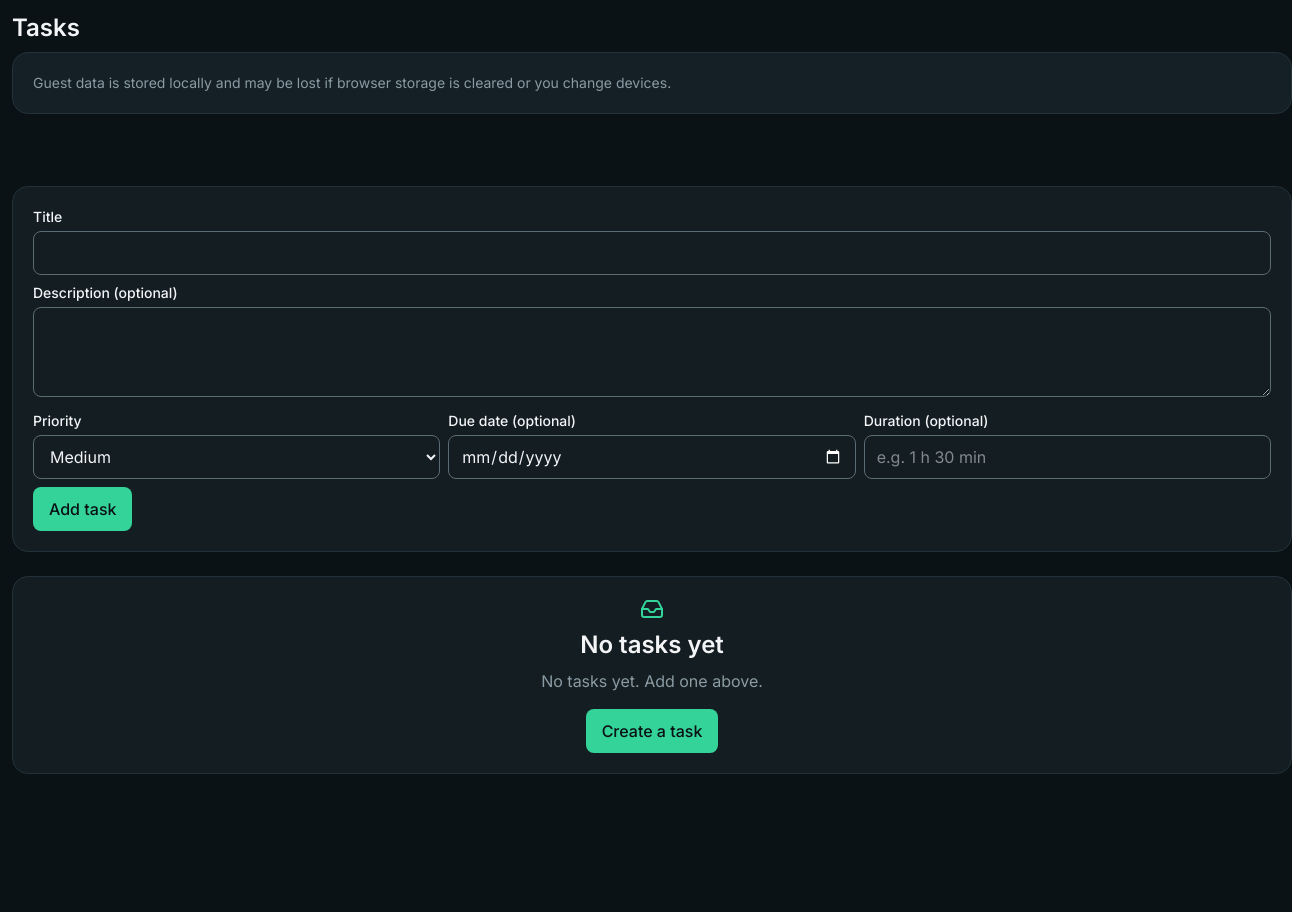
Test case: create form accessibility › renders field errors next to the correct inputs
The image size is (1292, 912).
Type "Valid title" into the field labelled "Title" at (652, 253), box [33,231,1271,275]
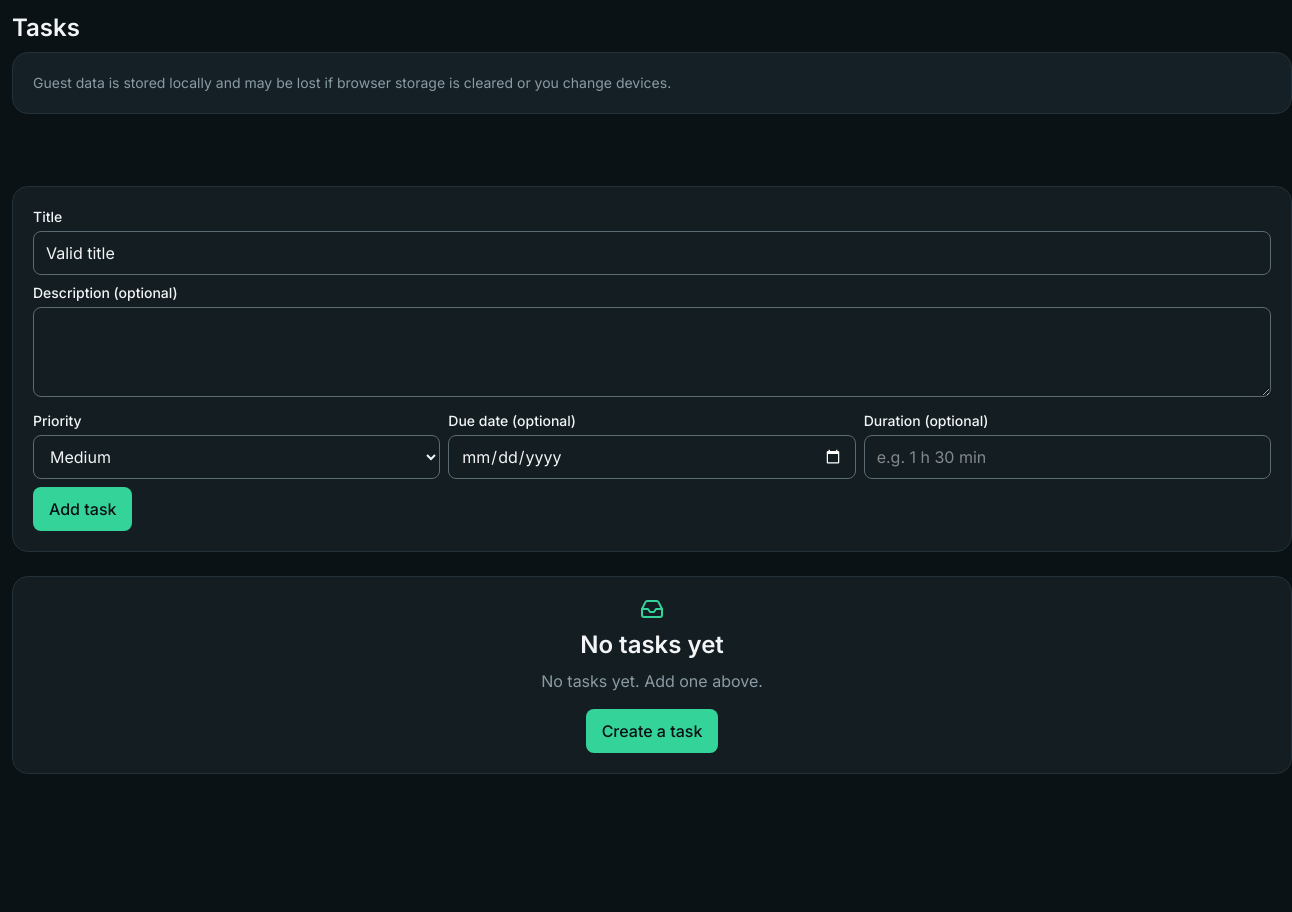
Type "1.5h" into the field labelled "Duration (optional)" at (1067, 457), box [864,435,1271,479]
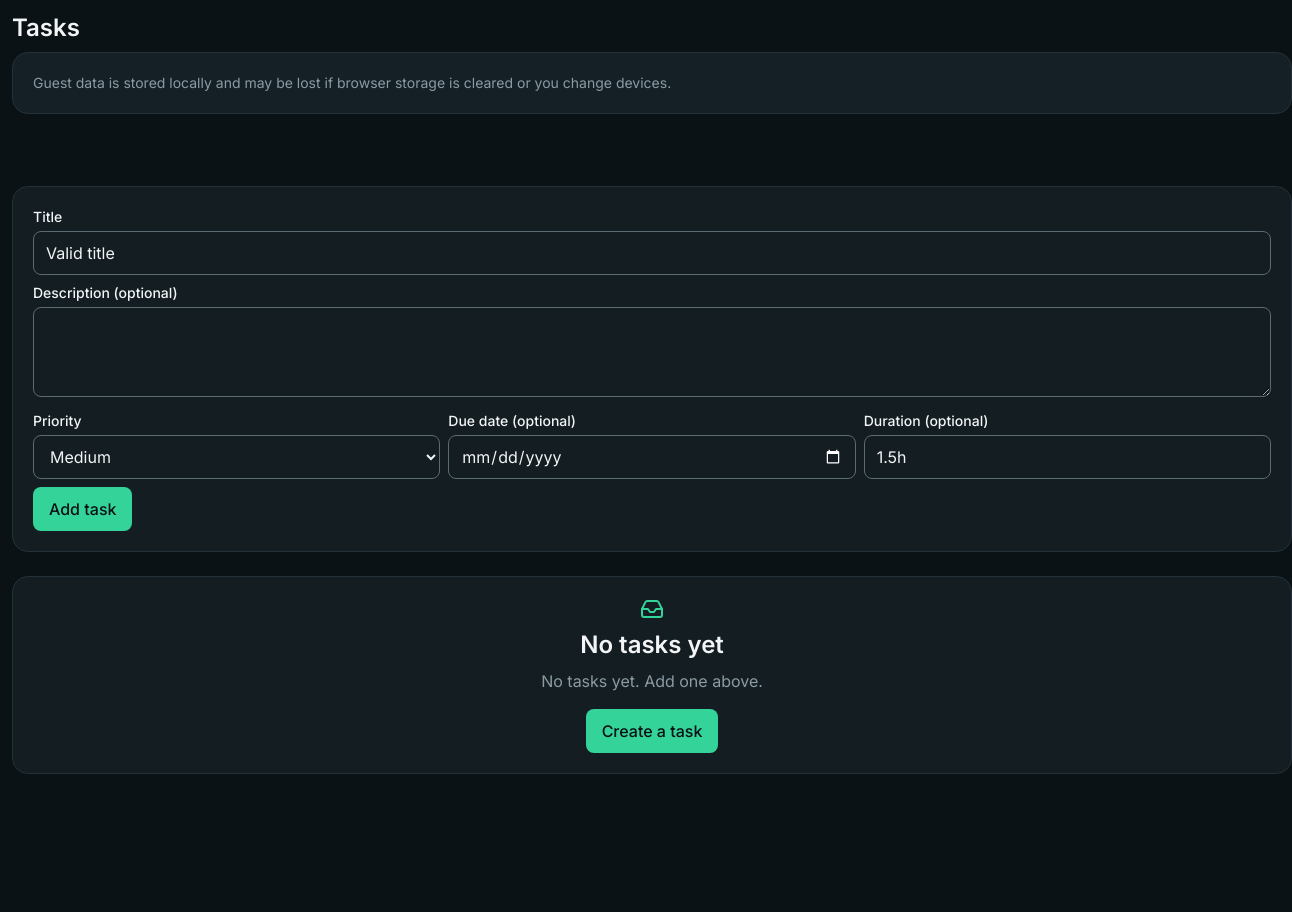
Click the button "Add task" at (83, 509), box [33,487,132,531]
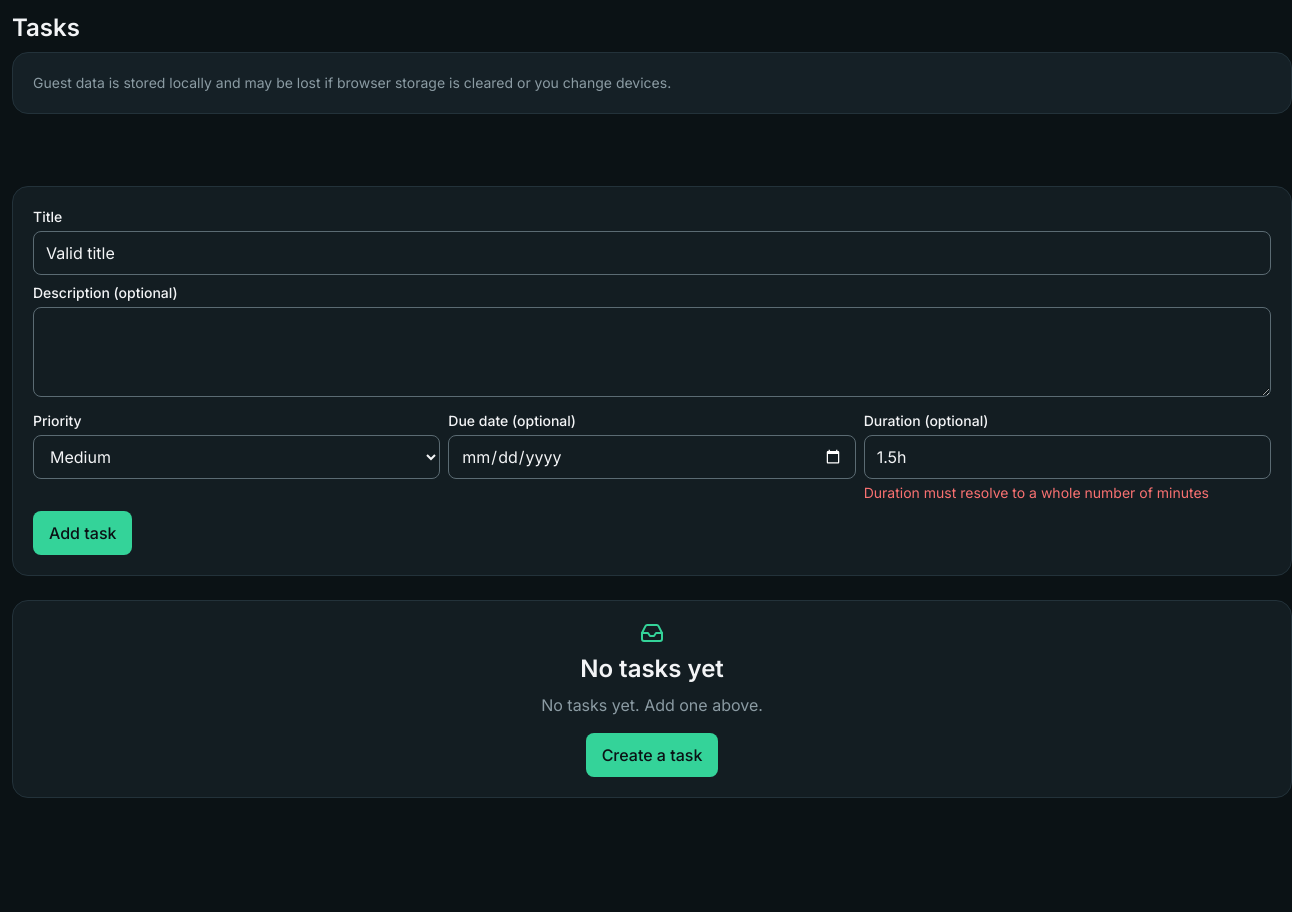
Result: the text "Duration must resolve to a whole number of minutes" is shown at [864,484,1209,501]
